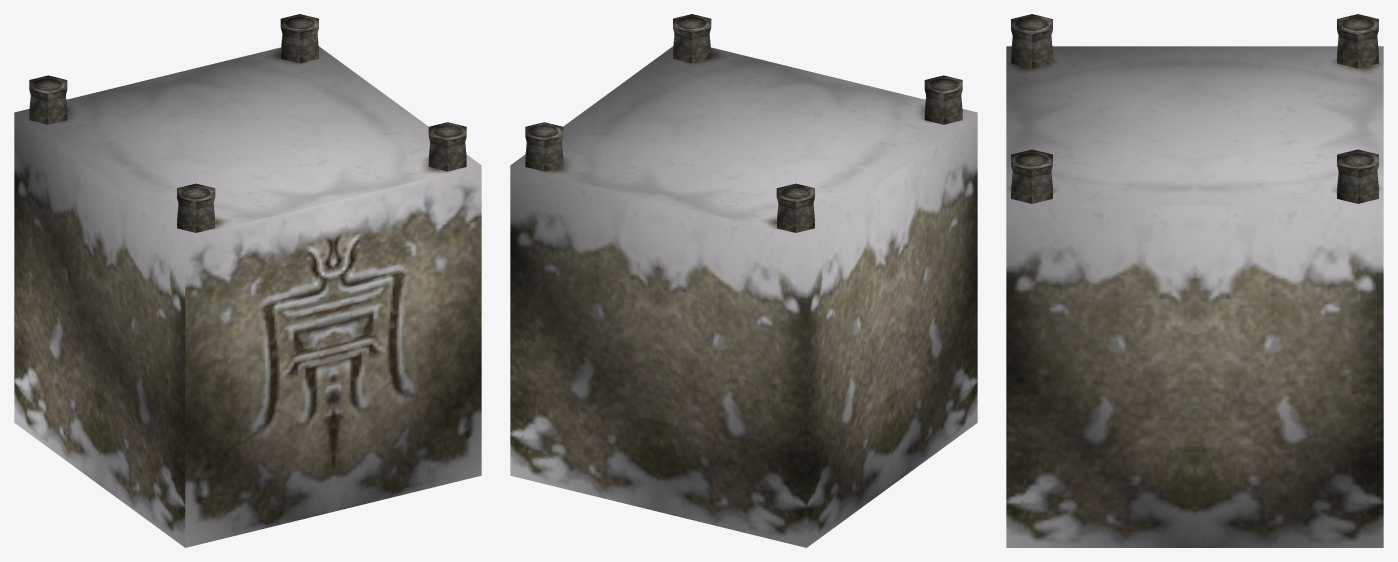
Rendered from landmark_grandstone02.glb.
The picture shows the model from 3 angles, left to right: view 1: azimuth 30°, elevation 25°; view 2: azimuth 150°, elevation 25°; view 3: azimuth 270°, elevation 25°; orthographic projection. The views are drawn at different scales.
Parts seen in each view (by area): view 1: Box02; view 2: Box02; view 3: Box02.
Boxes of the visible parts, x1,y1,x2,y2 form: Box02: (14, 14, 481, 547); Box02: (510, 14, 977, 547); Box02: (1006, 14, 1383, 547).
Size of the model in its own units: 4.74 by 5.21 by 4.74.
Materials: 1 (1 with a texture image).
